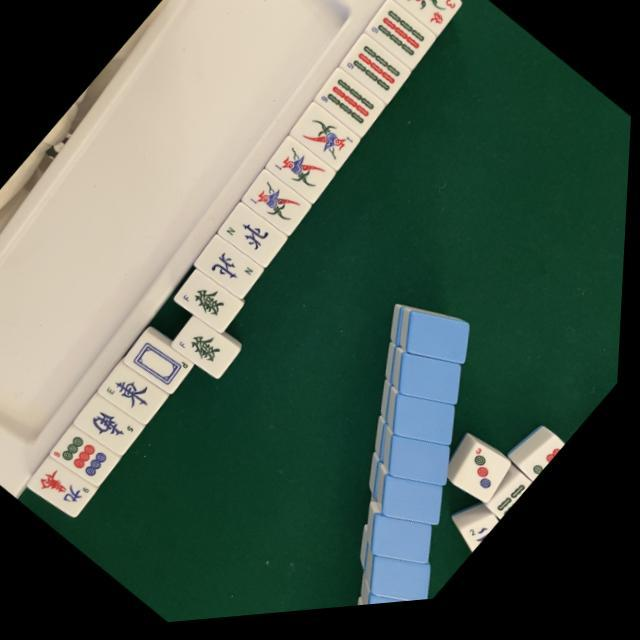bs3: (392, 0, 462, 42)
hdg: (181, 278, 240, 336), (178, 324, 236, 382)
hdw: (128, 334, 196, 401)
hwe: (104, 365, 165, 426)
hwn: (200, 242, 260, 302), (222, 211, 282, 270)
hws: (82, 397, 143, 457)
sb1: (267, 141, 336, 210), (296, 110, 360, 174), (246, 176, 308, 238)
sb9: (362, 5, 434, 76), (316, 76, 384, 143), (344, 44, 409, 108)
sc9: (36, 458, 98, 520)
sd9: (53, 424, 120, 489)
